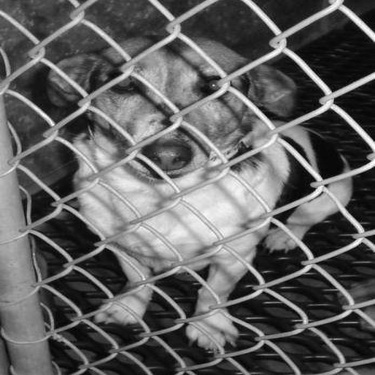dog: (40, 27, 357, 358)
